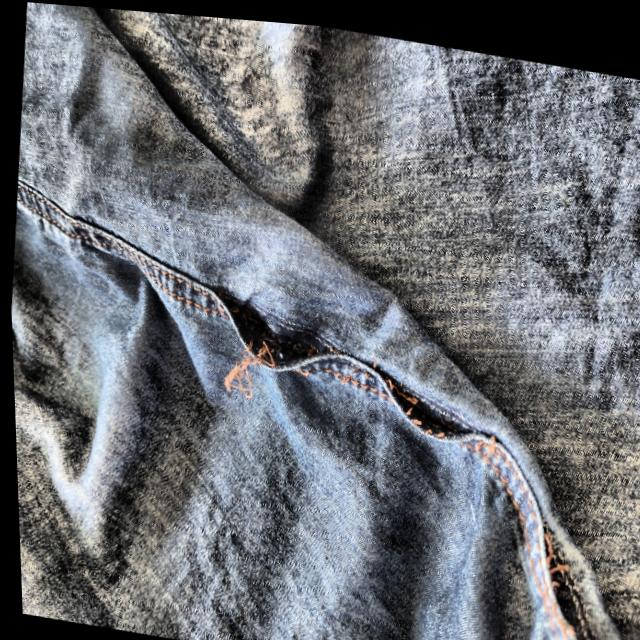seam: (521, 482, 621, 640), (363, 353, 492, 472), (211, 276, 333, 394)
